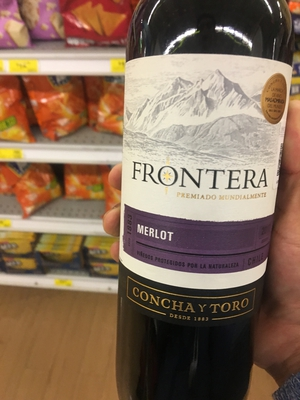frontera merlot: (104, 12, 300, 396)
